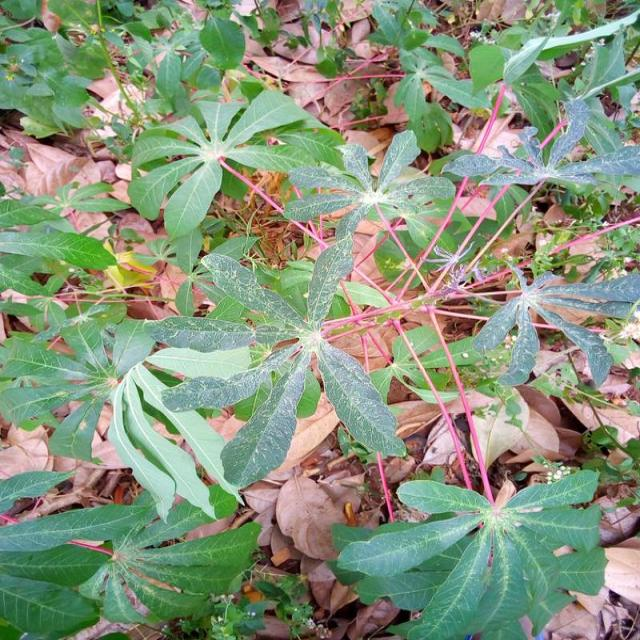cassava leaf: (0, 1, 638, 637), (330, 463, 608, 638)
